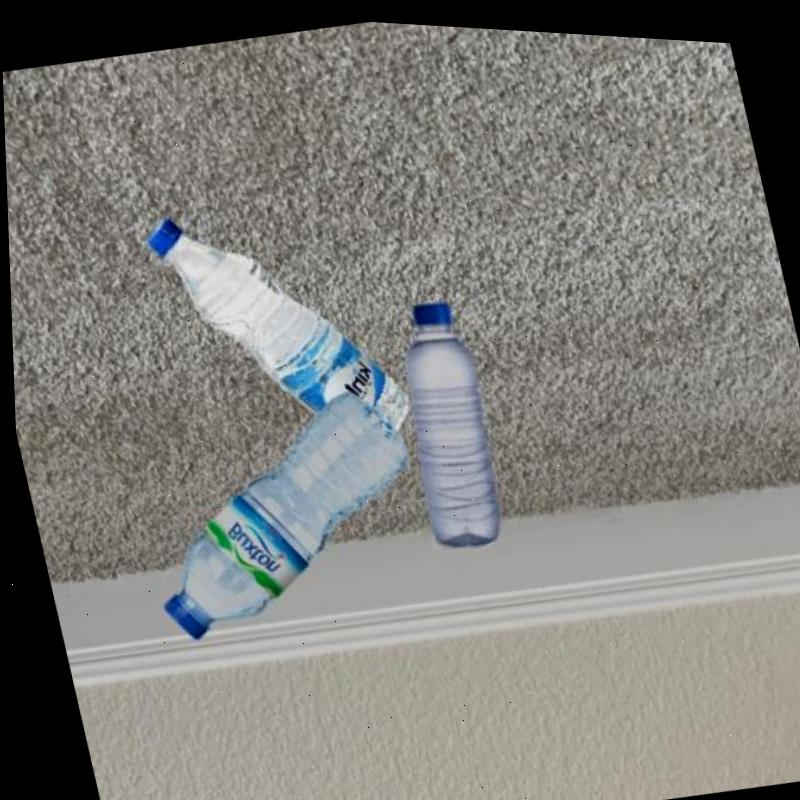botella: (112, 367, 444, 657), (136, 174, 414, 480), (371, 287, 512, 549)
